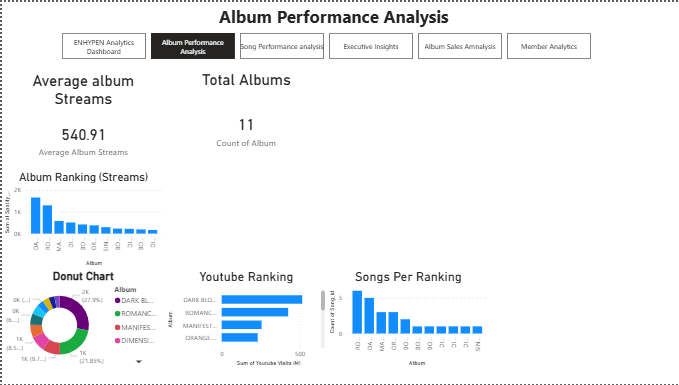

The page's visual inventory and layout, read from the dashboard file:
{"tool":"powerbi","page":{"name":"Album Performance Analysis","canvas":[1280,720],"ordinal":1},"visuals":[{"type":"clusteredColumnChart","title":" Album Ranking (Streams)","fields":{"Category":["Songs.Album"],"Y":["Sum(Songs.Spotify_Streams _M)"]},"box":[0,317.5,307,186],"z":0},{"type":"clusteredBarChart","title":"Youtube Ranking","fields":{"Category":["Songs.Album"],"Y":["Sum(Songs.Youtube Visits (M))"]},"box":[307,503.5,307,187.7],"z":1000},{"type":"donutChart","title":"Donut Chart","fields":{"Category":["Songs.Album"],"Y":["Sum(Songs.Spotify_Streams _M)"]},"box":[0,503.5,307,187.7],"z":2000},{"type":"clusteredColumnChart","title":"Songs Per Ranking","fields":{"Category":["Songs.Album"],"Y":["CountNonNull(Songs.Song_id)"]},"box":[614,503.5,307,187.7],"z":3000},{"type":"card","title":"Average album Streams","fields":{"Values":["Songs.Average Album Sreams"]},"box":[0,131.6,307,186],"z":4000},{"type":"card","title":"Total Albums","fields":{"Values":["Count(Songs.Album)"]},"box":[307,129.8,307,187.7],"z":5000},{"type":"textbox","box":[0,0,987.1,57.1],"z":6000},{"type":"pageNavigator","box":[114,57.9,1000,49.1],"z":6001}]}

Visuals, with their boxes in screenshot pixels (x1, y1, x2, y2), scaled from the page's 1280x720 canvas onto the 679x385 screenshot:
" Album Ranking (Streams)" clusteredColumnChart: 0, 170, 163, 269
"Youtube Ranking" clusteredBarChart: 163, 269, 326, 370
"Donut Chart" donutChart: 0, 269, 163, 370
"Songs Per Ranking" clusteredColumnChart: 326, 269, 489, 370
"Average album Streams" card: 0, 70, 163, 170
"Total Albums" card: 163, 69, 326, 170
textbox: 0, 0, 524, 31
pageNavigator: 60, 31, 591, 57
